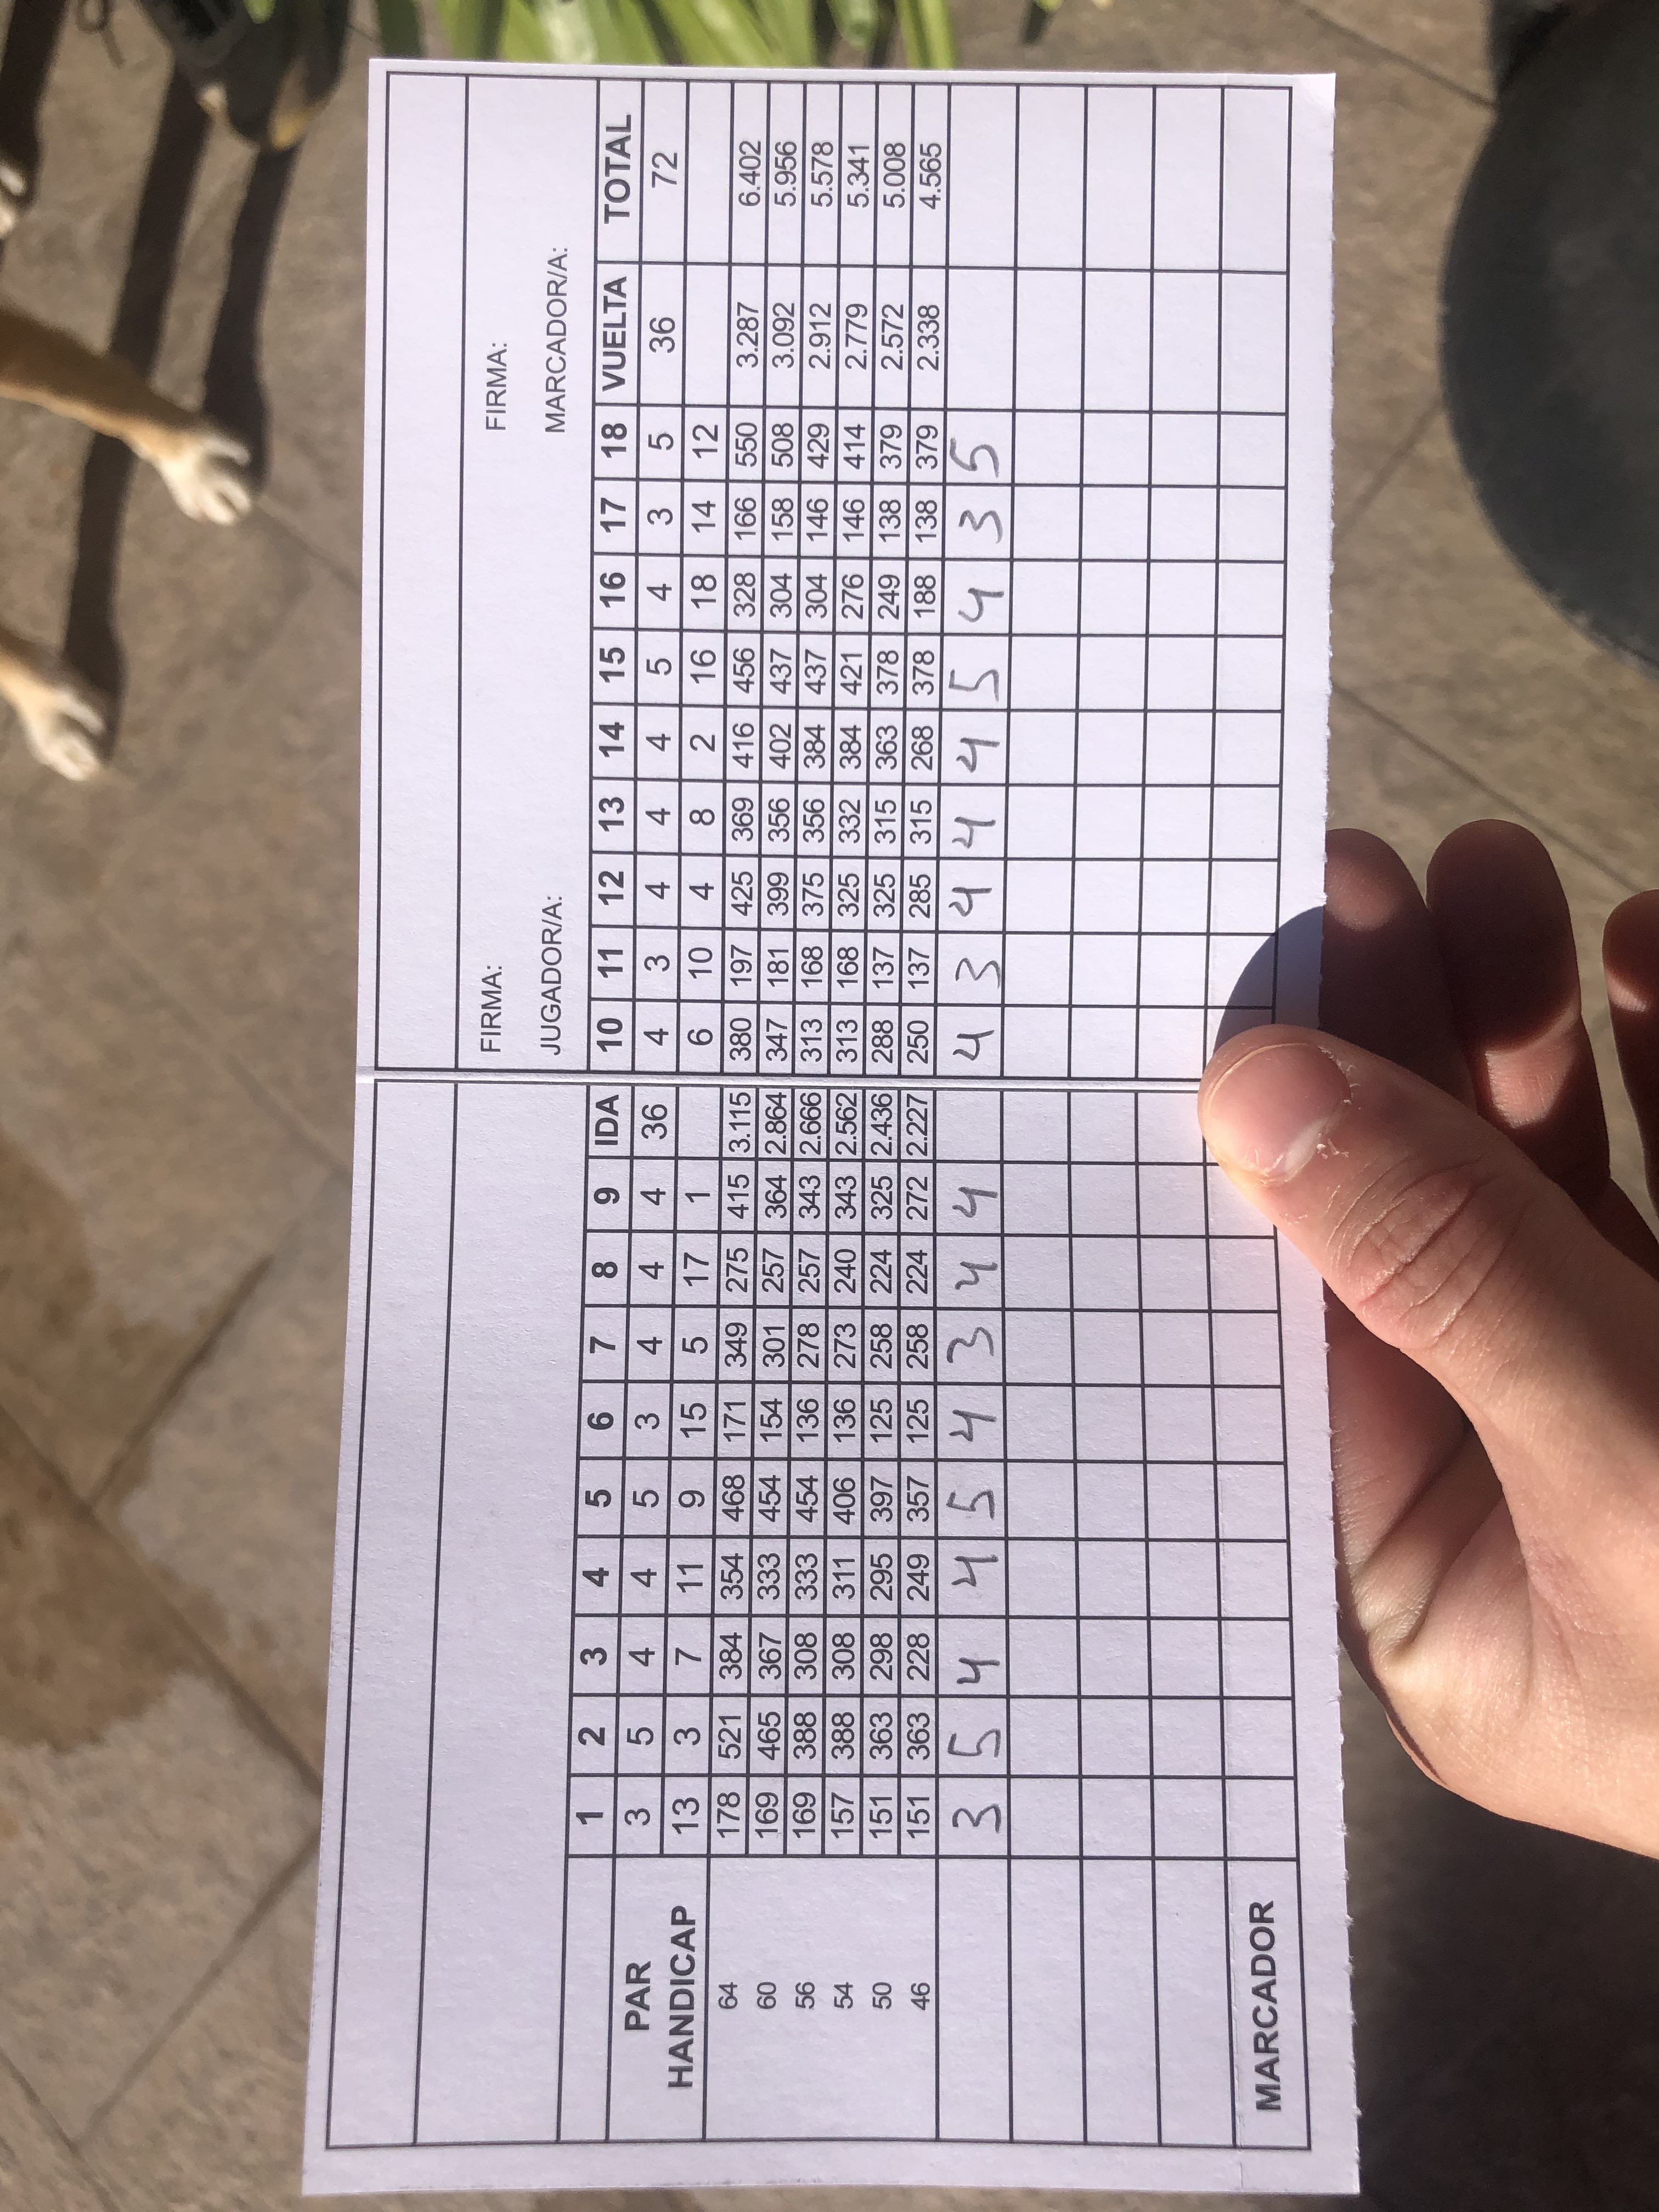par: (624, 150, 676, 2034)
score: (946, 421, 1011, 1858)
